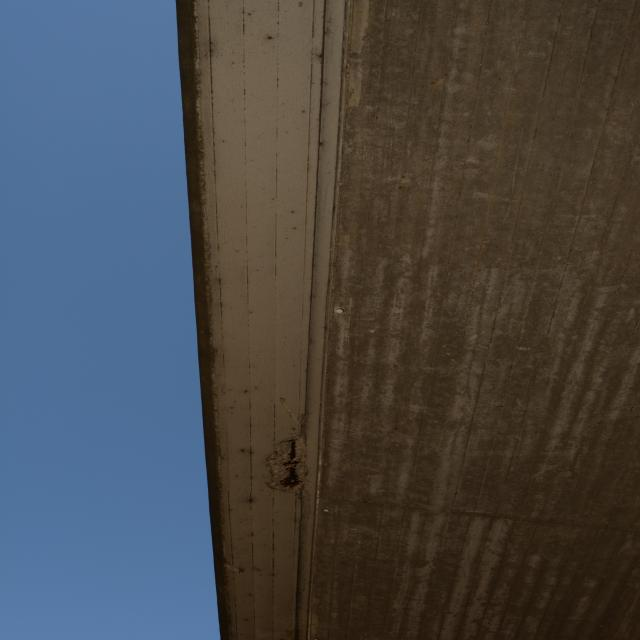Rebar: (263, 432, 308, 496)
vertical crack: (300, 490, 306, 534)
